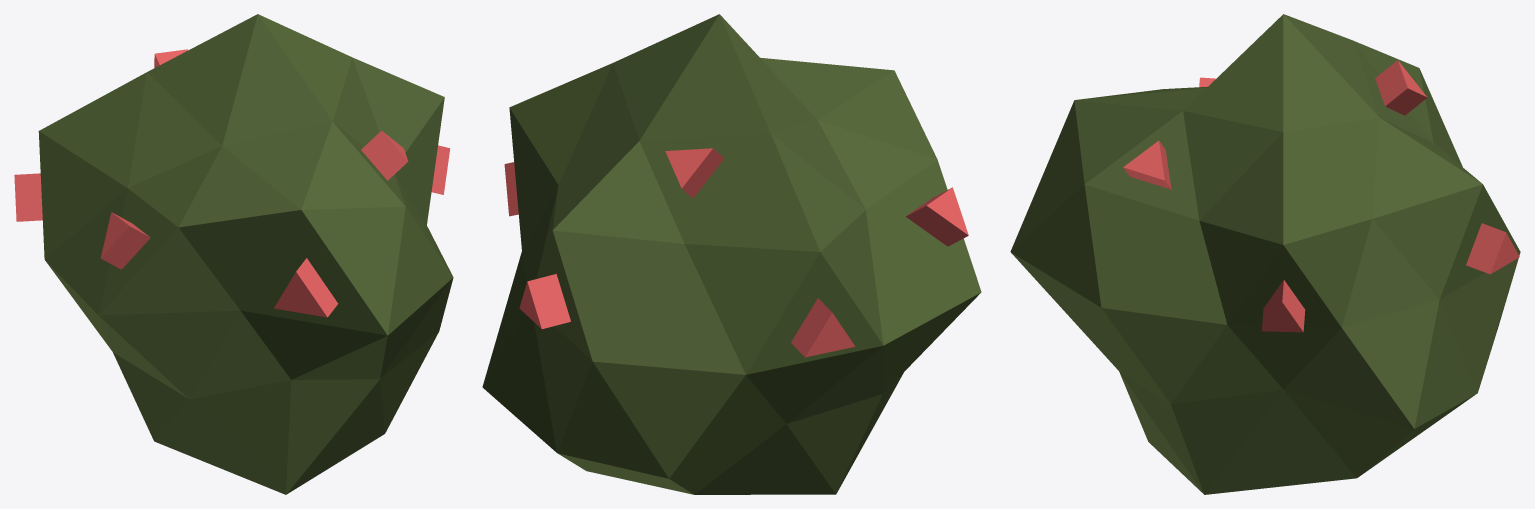
Rendered from Bush.fbx.
3 views of the same model, side by side, from view 1: azimuth 30°, elevation 25°; view 2: azimuth 150°, elevation 25°; view 3: azimuth 270°, elevation 25° (orthographic). The views are drawn at different scales.
Parts seen in each view (by area): view 1: Bush; view 2: Bush; view 3: Bush.
Part boxes in pixels (x1,y1,x2,y2): Bush: [14, 14, 453, 494]; Bush: [482, 14, 981, 494]; Bush: [1010, 14, 1520, 494].
Size of the model in its own units: 214 by 224 by 232.
